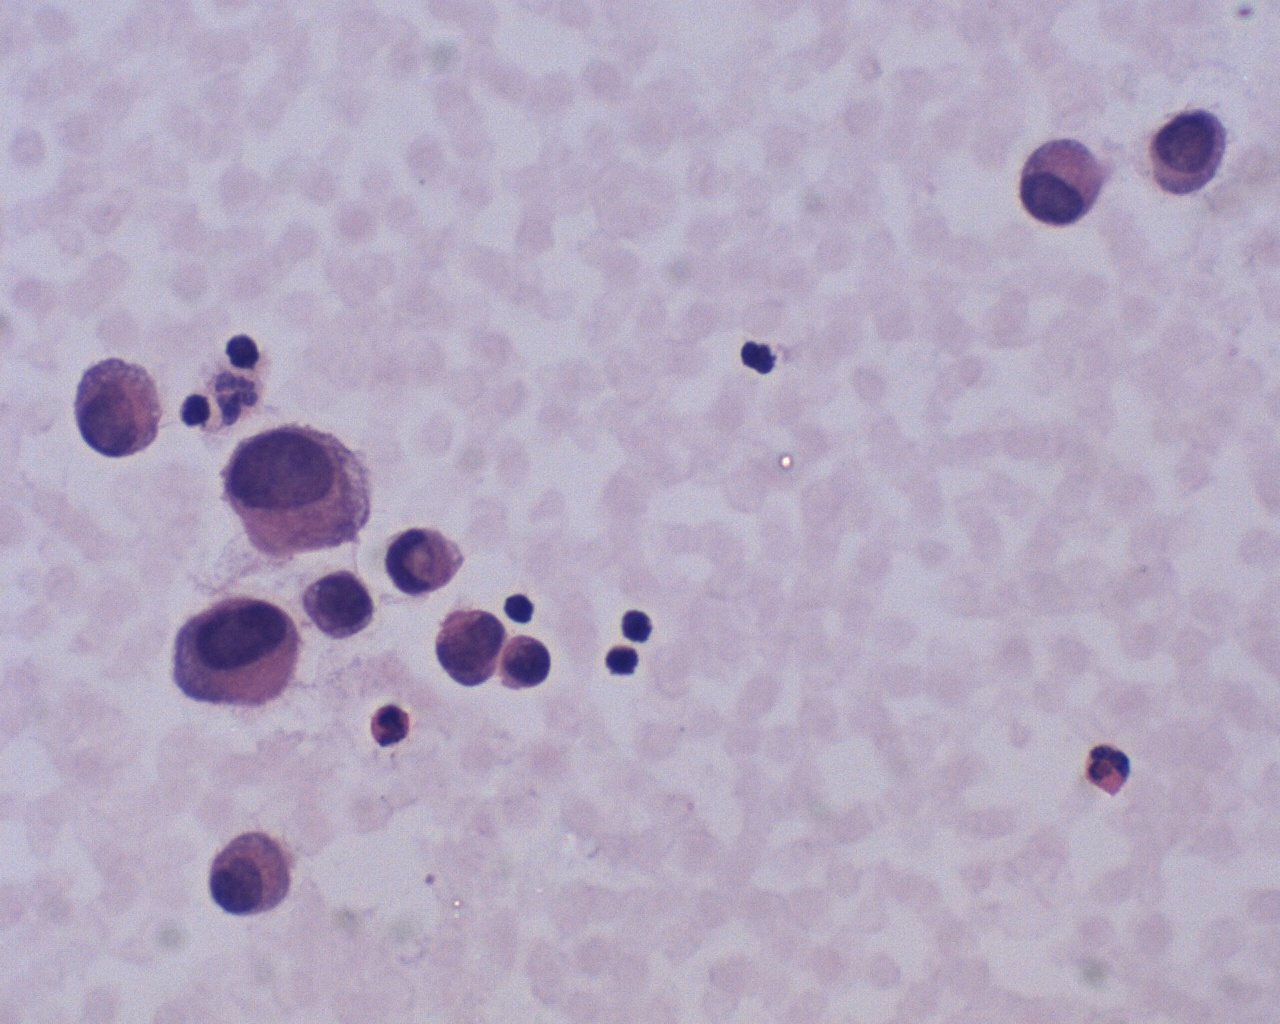ab: (222, 416, 382, 571), (156, 587, 304, 714), (69, 350, 169, 462), (202, 823, 301, 926), (1142, 91, 1233, 197), (1017, 132, 1111, 233), (430, 599, 506, 697), (300, 561, 390, 639), (499, 628, 556, 698)
neutro: (360, 695, 416, 757)
